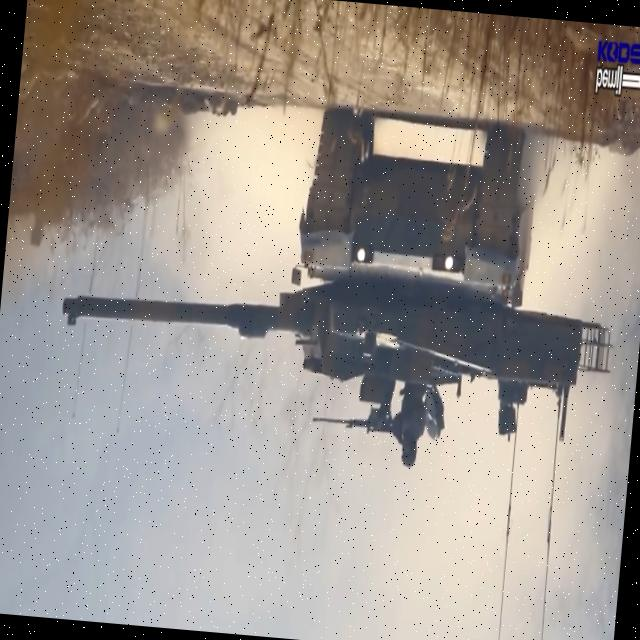korea tank: (49, 81, 630, 486)
